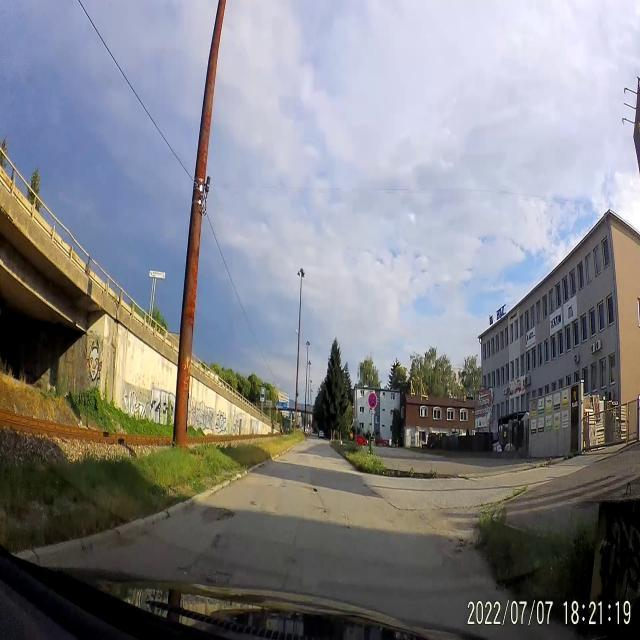Pothole: (200, 499, 238, 528), (203, 567, 234, 589), (302, 480, 321, 495)
